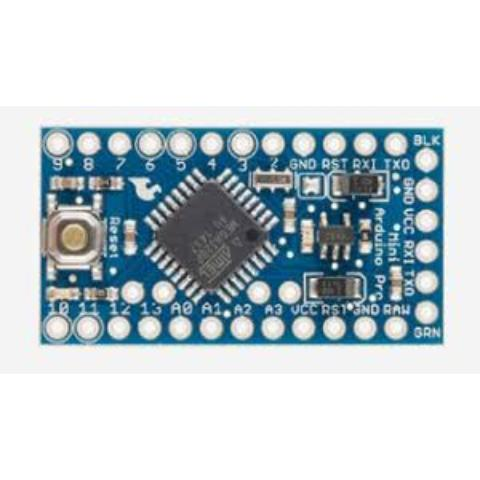Arduino-Pro-Mini: (31, 123, 452, 361)
